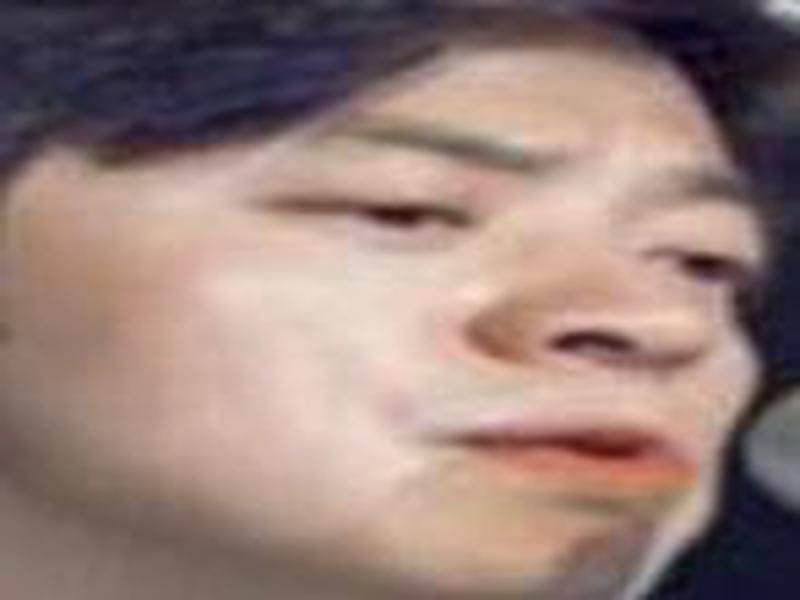without_mask: (33, 42, 772, 589)
